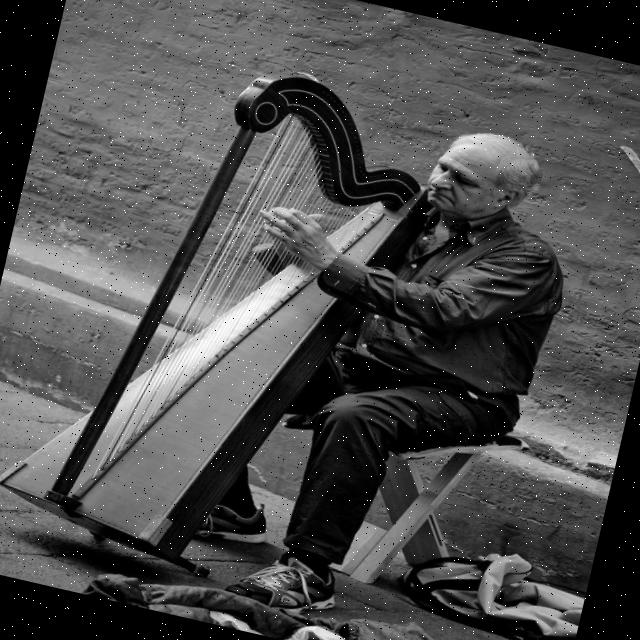harp: (0, 24, 463, 613)
